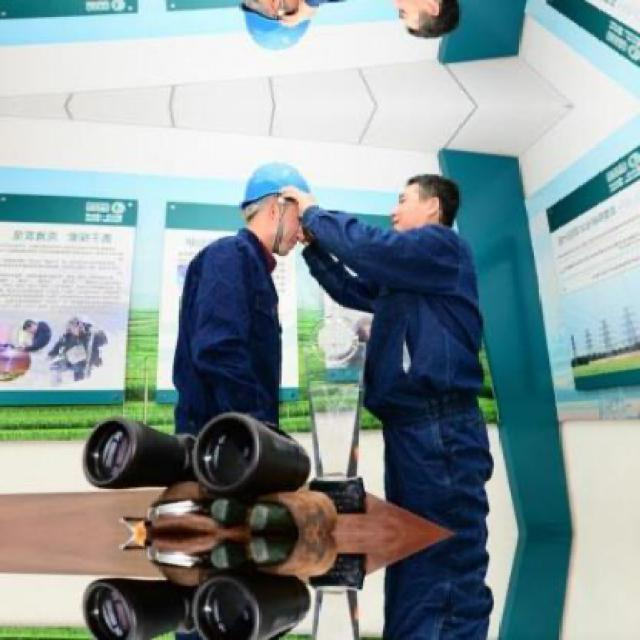helmet: (238, 147, 314, 260), (238, 0, 316, 68)
